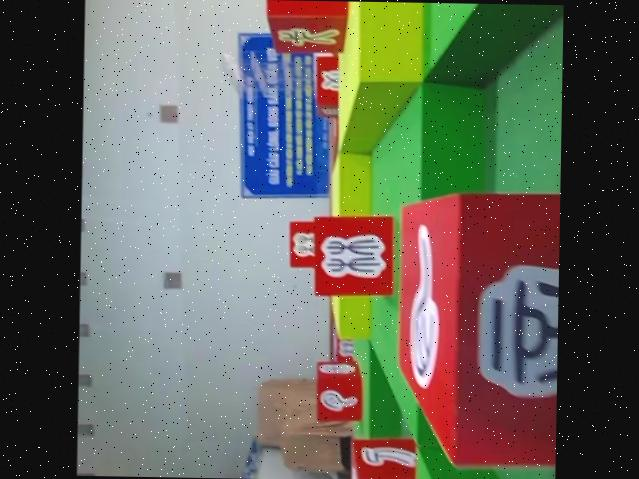R2 Fake: (395, 192, 560, 466), (316, 213, 394, 296), (264, 0, 347, 53), (352, 436, 428, 479), (316, 360, 362, 422)
